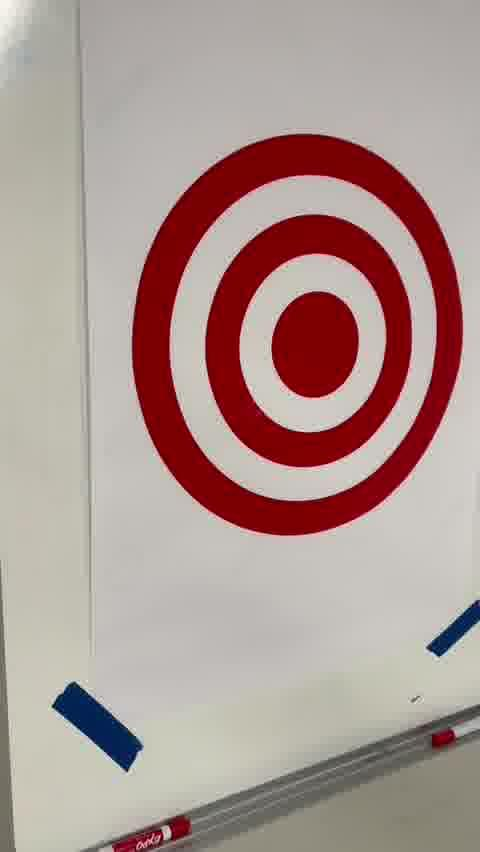target_red: (129, 132, 464, 536)
